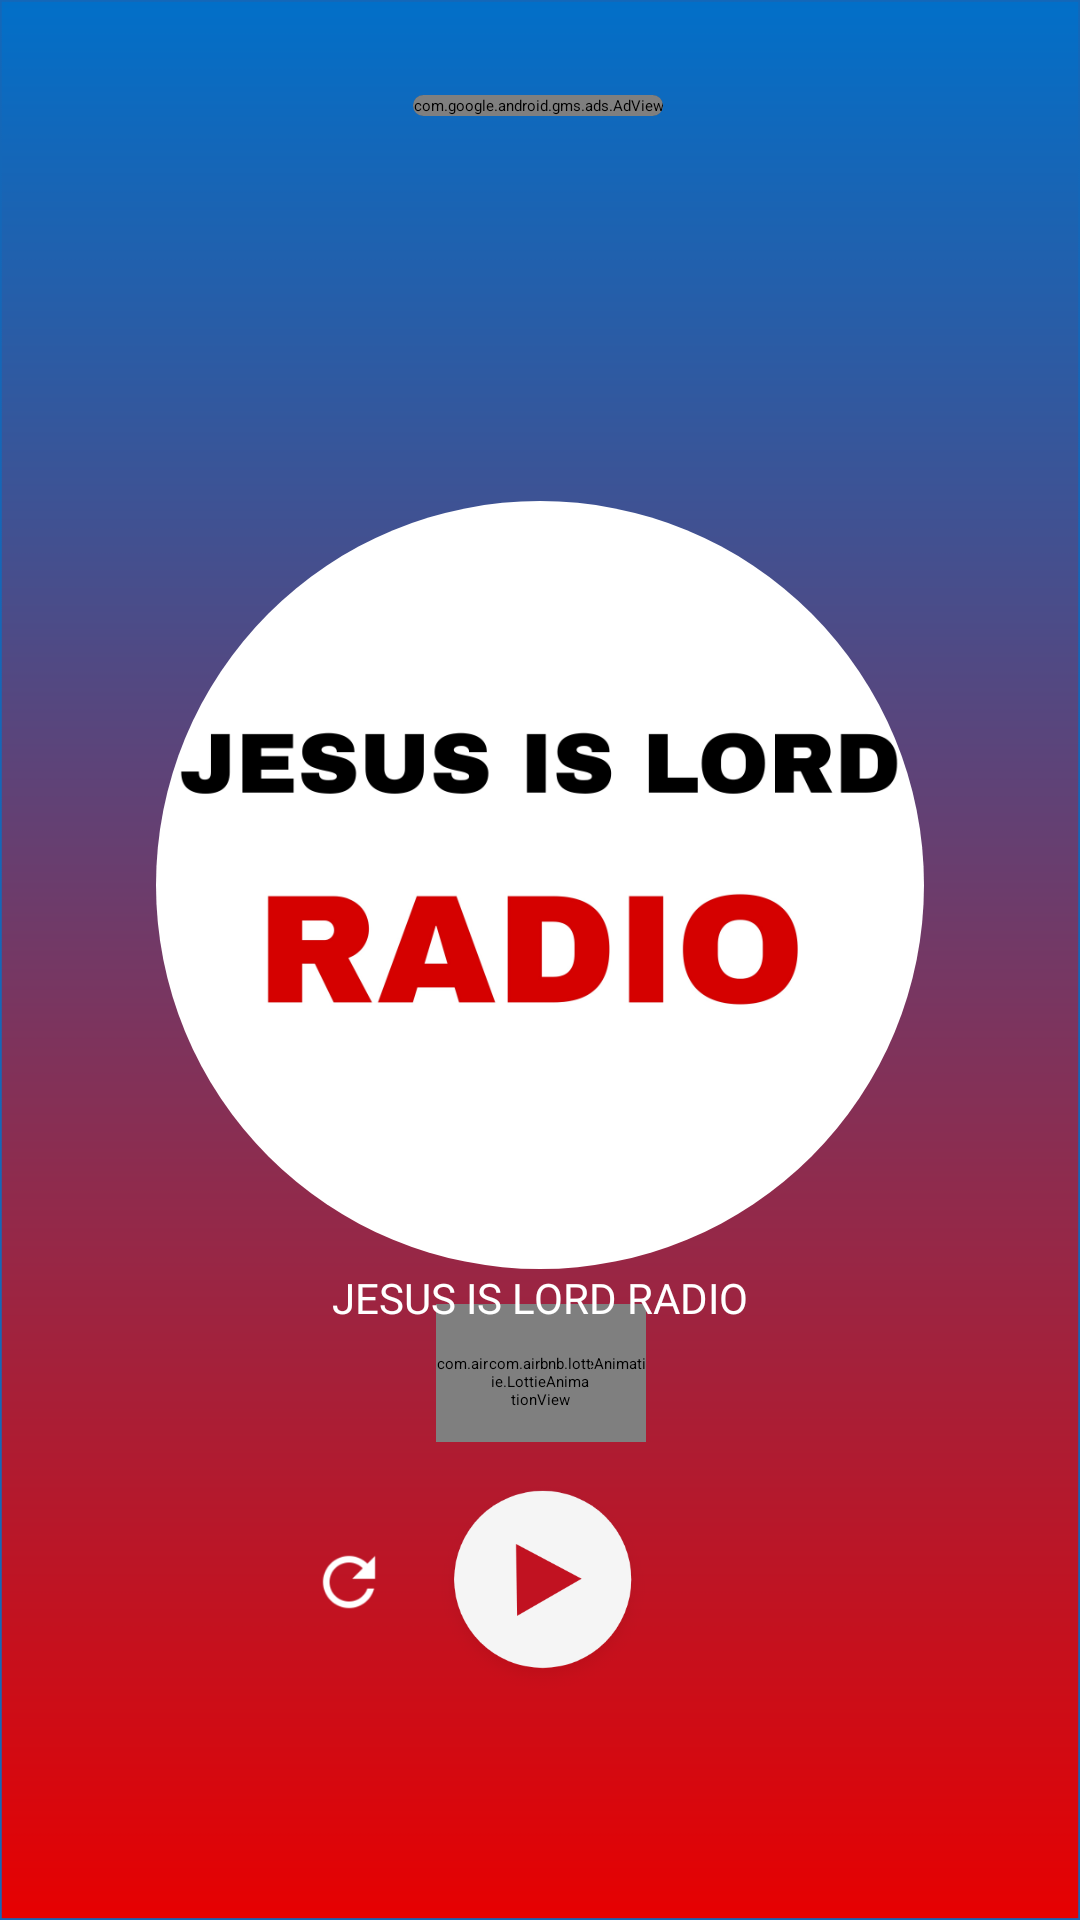

Icons on this 1080w x 1920h Android screen, each with its box as (x1, y1, x2, y2):
refreshbutton: (322, 1555, 376, 1609)
